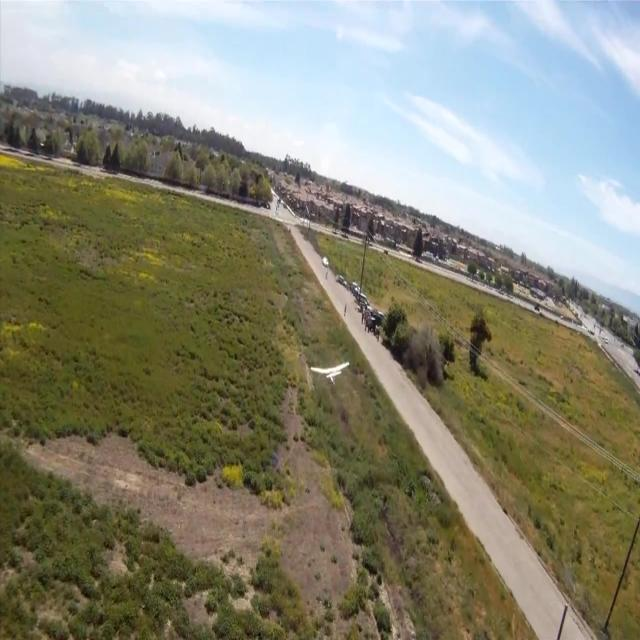iha: (303, 360, 344, 385)
